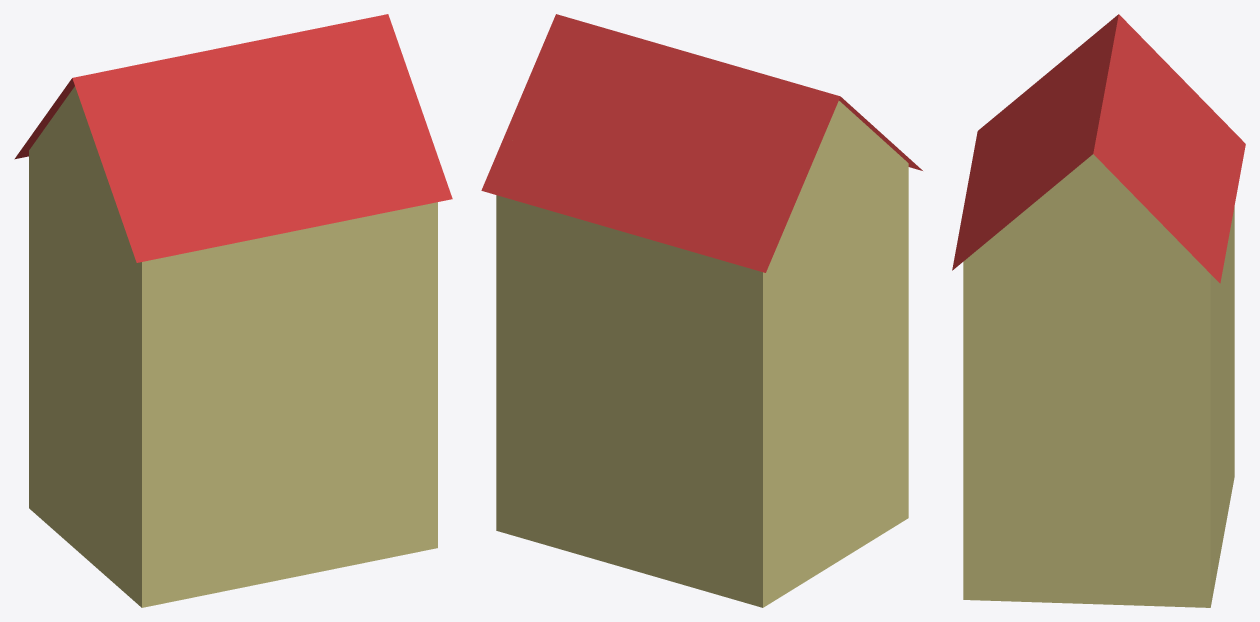
3 views of the same model, side by side, from view 1: azimuth 30°, elevation 25°; view 2: azimuth 150°, elevation 25°; view 3: azimuth 270°, elevation 25° (orthographic). The views are drawn at different scales.
Bounding box in the file's own units: 8.41 × 7.02 × 11.99.
